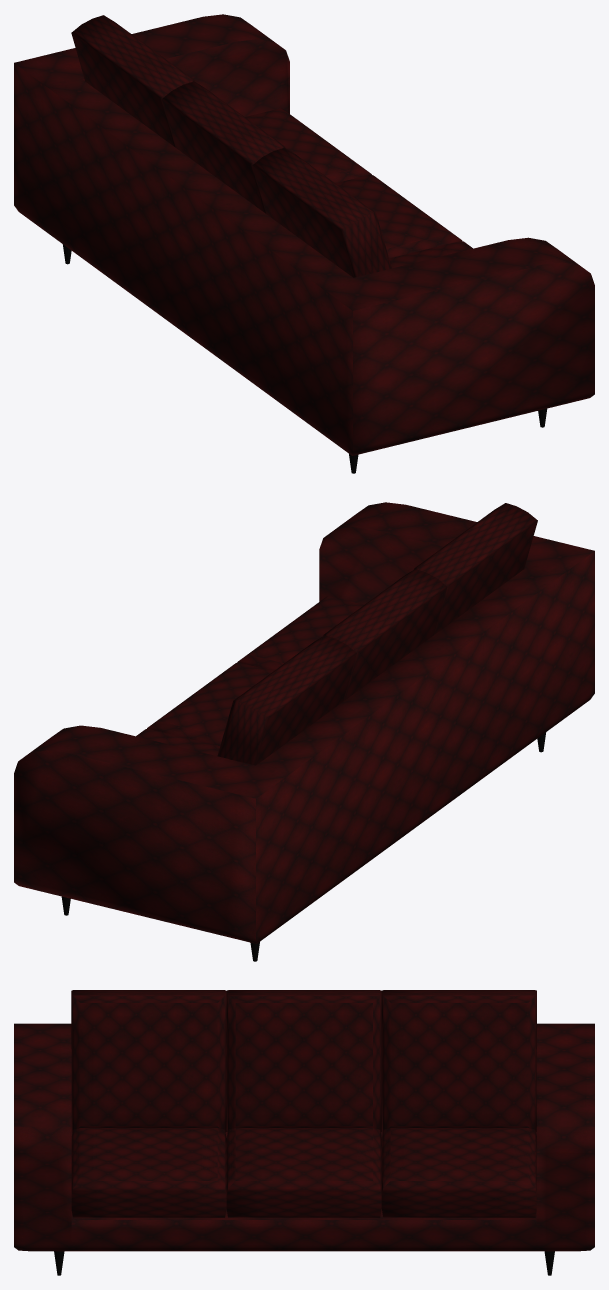
The model's file is sofa.glb.
3 renders of one model, top to bottom at view 1: azimuth 30°, elevation 25°; view 2: azimuth 150°, elevation 25°; view 3: azimuth 270°, elevation 25°, orthographic. The views are drawn at different scales.
Visible parts, largest first — view 1: Cube, Cube.002, Cube.001; view 2: Cube, Cube.002, Cube.001; view 3: Cube.002, Cube, Cube.001, Cylinder.
Boxes of the visible parts, x1,y1,x2,y2 form: Cube: (14,14,594,455); Cube.002: (71,15,391,277); Cube.001: (245,108,472,268); Cube: (14,502,594,943); Cube.002: (217,503,537,765); Cube.001: (136,596,364,755); Cube.002: (71,990,536,1131); Cube: (14,1023,594,1251); Cube.001: (71,1128,536,1217); Cylinder: (54,1251,554,1275).
Bounding box in the file's own units: 2 × 1.95 × 4.85.
4 materials, 3 textured.
